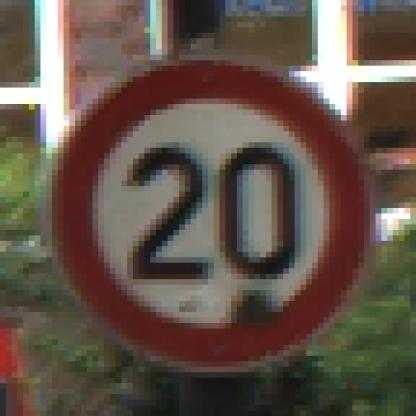Speed Limit 20: (54, 62, 372, 368)
